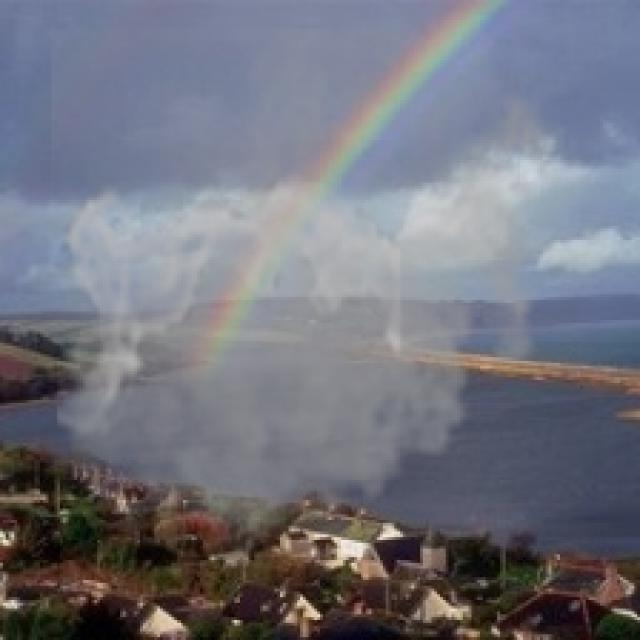Smoke: (51, 29, 572, 578)
